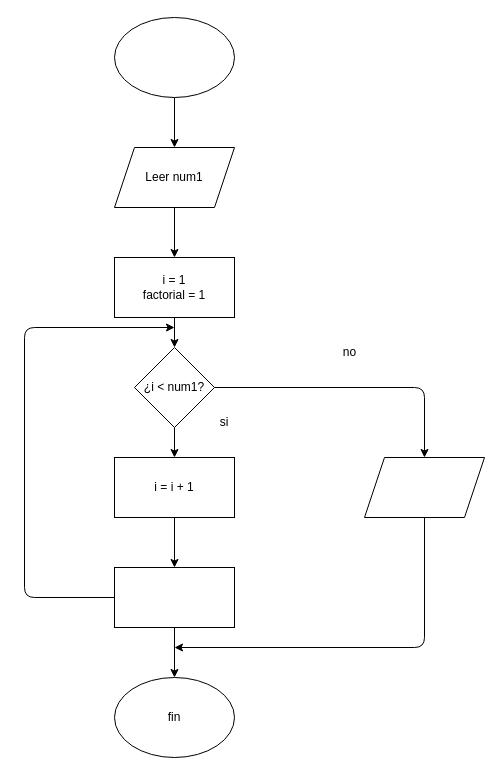
The diagram is 502 pixels wide and 775 high, and some of its shapes have lost their labels. Each missing label, with the box of its shape:
factorial = factorial * i: (114, 566, 234, 628)
inicio: (114, 16, 234, 98)
Mostrar factorial: (364, 456, 484, 518)
